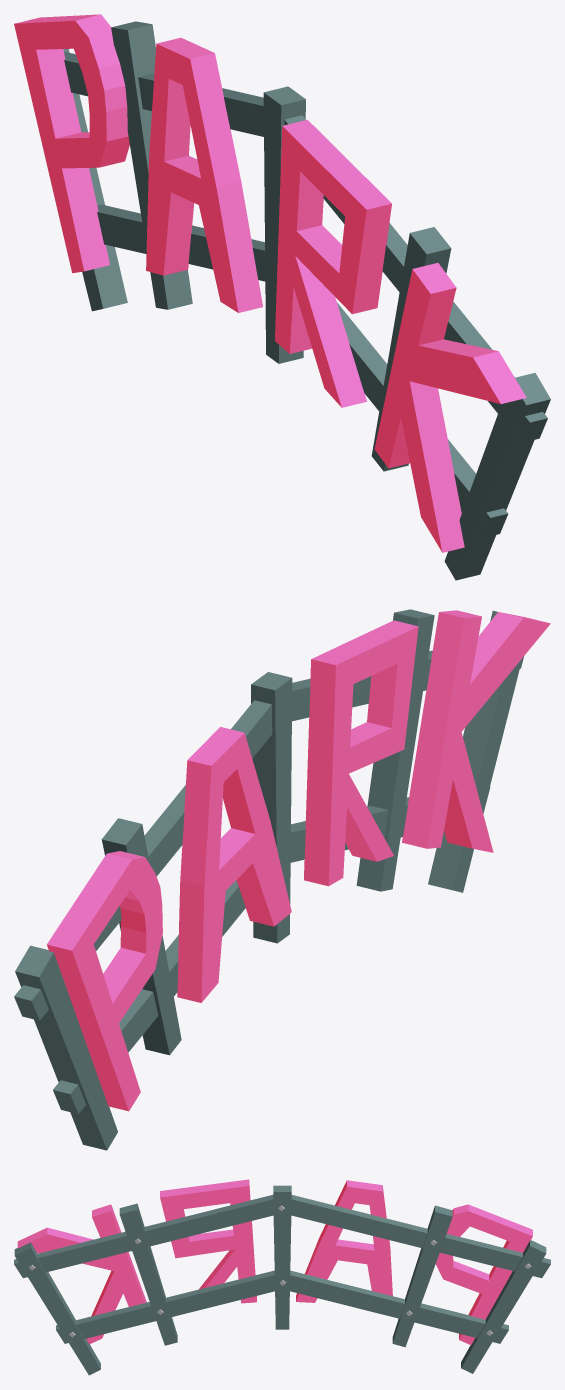
The model's file is SM_Hoarding_09_C.fbx.
The picture shows the model from 3 angles, top to bottom: view 1: azimuth 30°, elevation 25°; view 2: azimuth 150°, elevation 25°; view 3: azimuth 270°, elevation 25°; orthographic projection. The views are drawn at different scales.
Parts seen in each view (by area): view 1: SM_Hoarding_09_C_LOD0; view 2: SM_Hoarding_09_C_LOD0; view 3: SM_Hoarding_09_C_LOD0.
Boxes of the visible parts, x1,y1,x2,y2 form: SM_Hoarding_09_C_LOD0: [14, 14, 550, 580]; SM_Hoarding_09_C_LOD0: [14, 609, 550, 1150]; SM_Hoarding_09_C_LOD0: [14, 1179, 550, 1375].
Size of the model in its own units: 45.14 by 814 by 308.
Materials: 1 (1 with a texture image).
